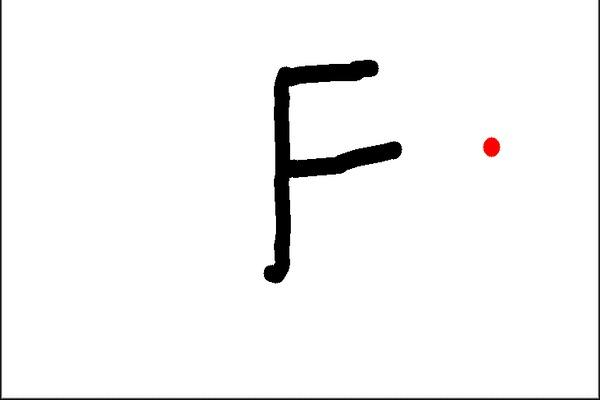F: (260, 56, 402, 286)
